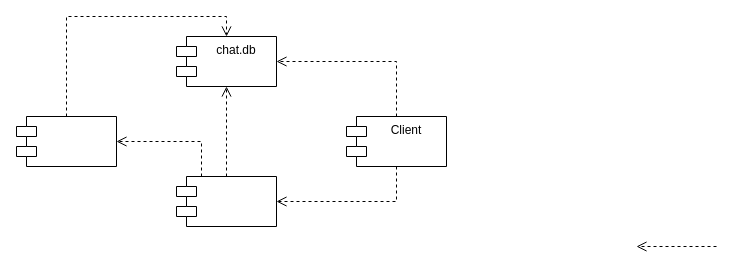
Image size: 733x267. Some labels were removed from this diagram. The shapes that lost their labels are listed below. From the top down, each one's centre as x and y in pixels, then its label:
[66,141]: Server
[226,201]: main.exe
